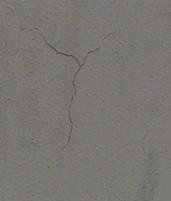fissura: (5, 9, 147, 176)
